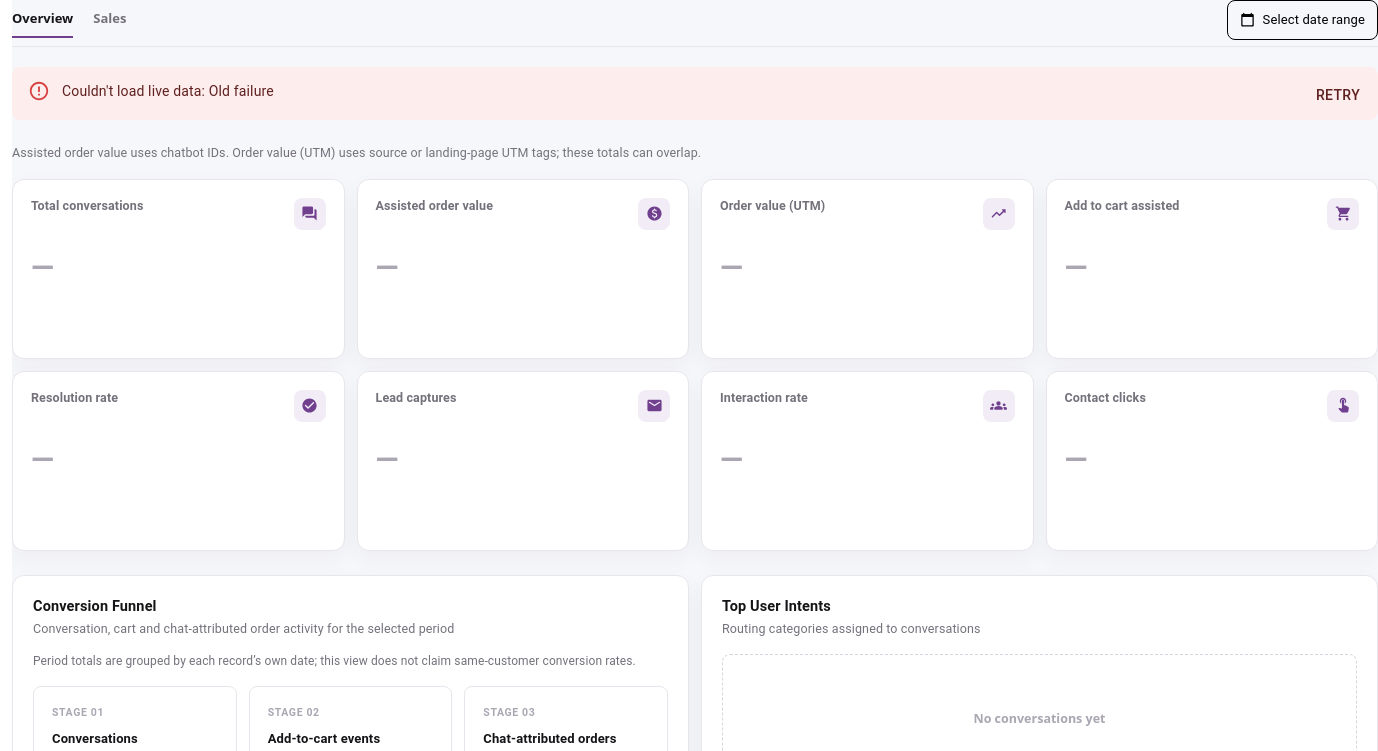
Test: clears a failed overview error when retry starts and after success
Expected: the text "Couldn't load live data: Old failure" is shown, [62,83,274,99]
Click the button "Retry": coordinates (1338, 96) [1306,77,1370,114]
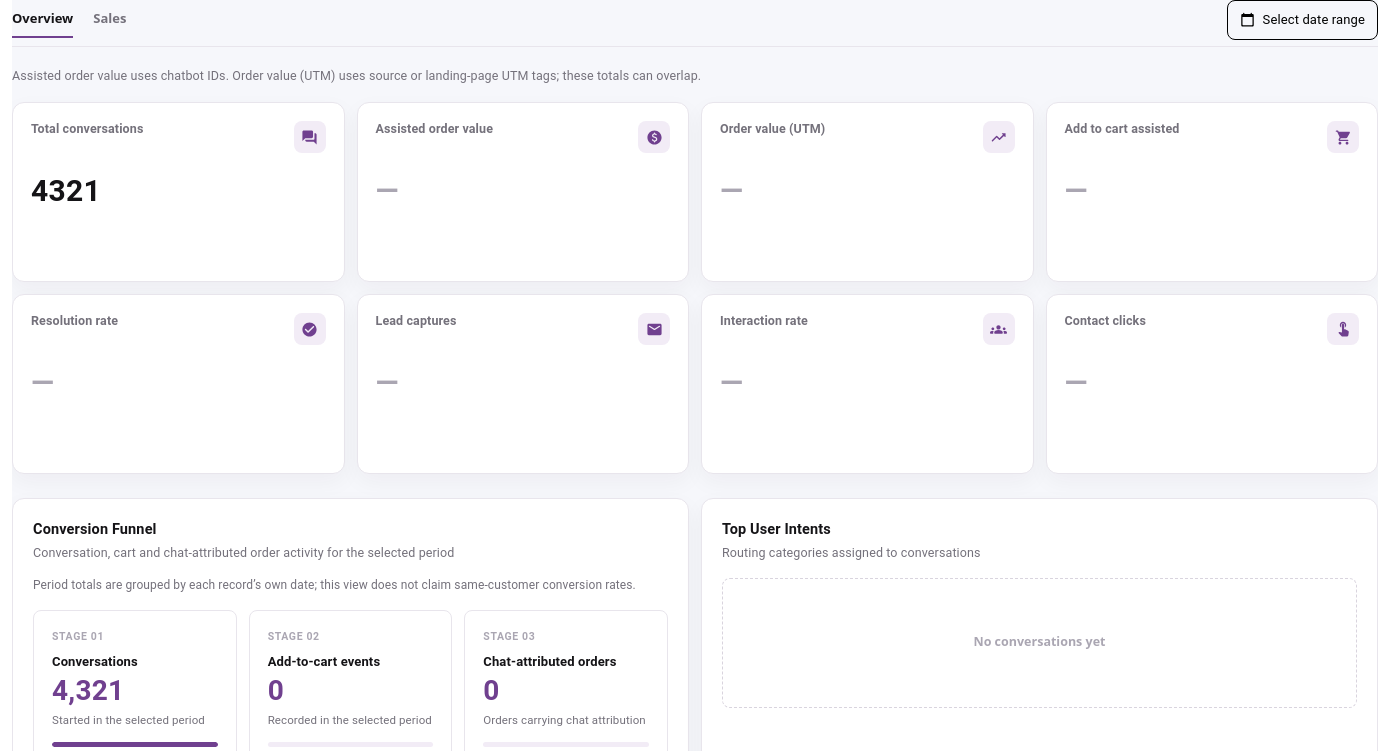
Result: the text "Old failure" is gone
Result: the text "4,321" is shown at [52,674,124,707]
